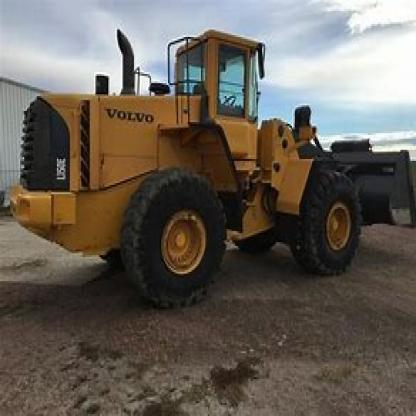bull_dozer/loader/grader: (11, 20, 414, 320)
